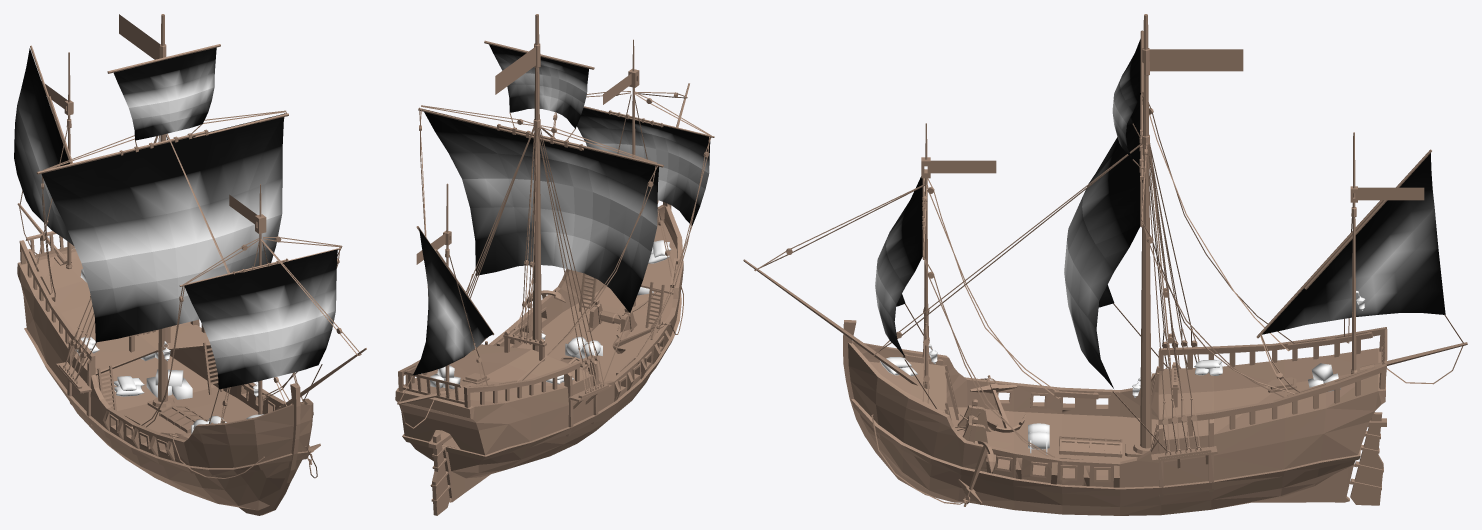
Rendered from middle_pirate2.fbx.
3 renders of one model, left to right at view 1: azimuth 30°, elevation 25°; view 2: azimuth 150°, elevation 25°; view 3: azimuth 270°, elevation 25°, orthographic. The views are drawn at different scales.
Visible parts, largest first — view 1: middle_pirate2; view 2: middle_pirate2; view 3: middle_pirate2.
Boxes of the visible parts, left/top/right/bottom form: middle_pirate2: left=14, top=14, right=366, bottom=515; middle_pirate2: left=395, top=14, right=714, bottom=515; middle_pirate2: left=743, top=14, right=1467, bottom=515.
Size of the model in its own units: 1303 by 2172 by 2910.
